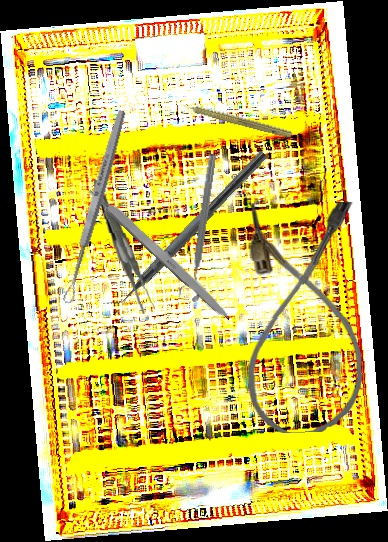Cannula: (244, 201, 364, 434)
Chopper: (99, 139, 269, 319)
Dressing Forceps: (93, 176, 156, 318)
Fixation Ring: (176, 152, 221, 303)
Handpiece: (172, 95, 294, 141)
Scalpel Handle: (87, 183, 235, 324)
Surgical Spoon: (60, 108, 129, 305)
